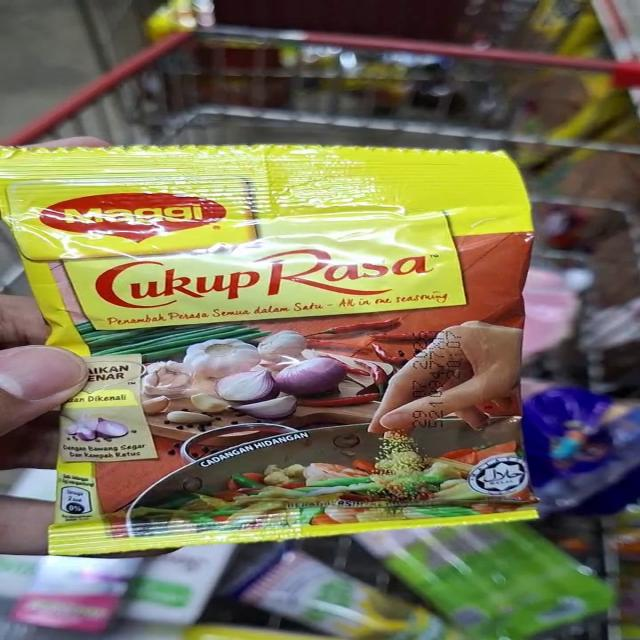Maggi Cukup Rasa: (0, 142, 563, 538)
